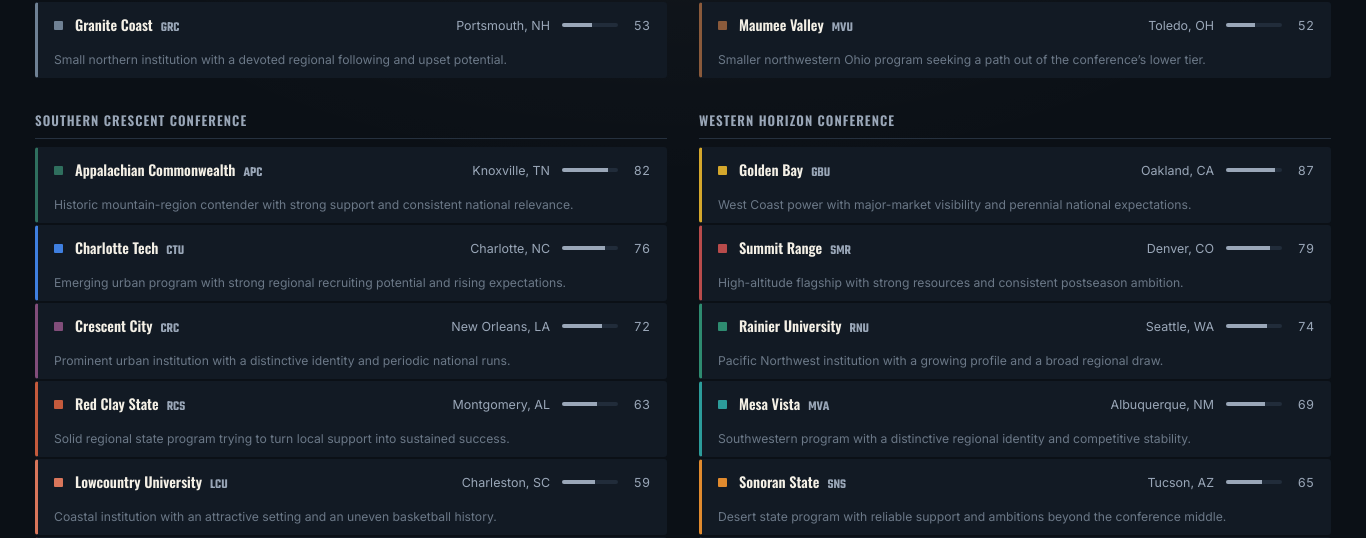
Season Presentation › shows the real next opponent from the Schedule on the hub
(page scrolled)
Click the button that starts with "Charlotte Tech": (117, 247) left=35, top=225, right=667, bottom=301
(page scrolled)
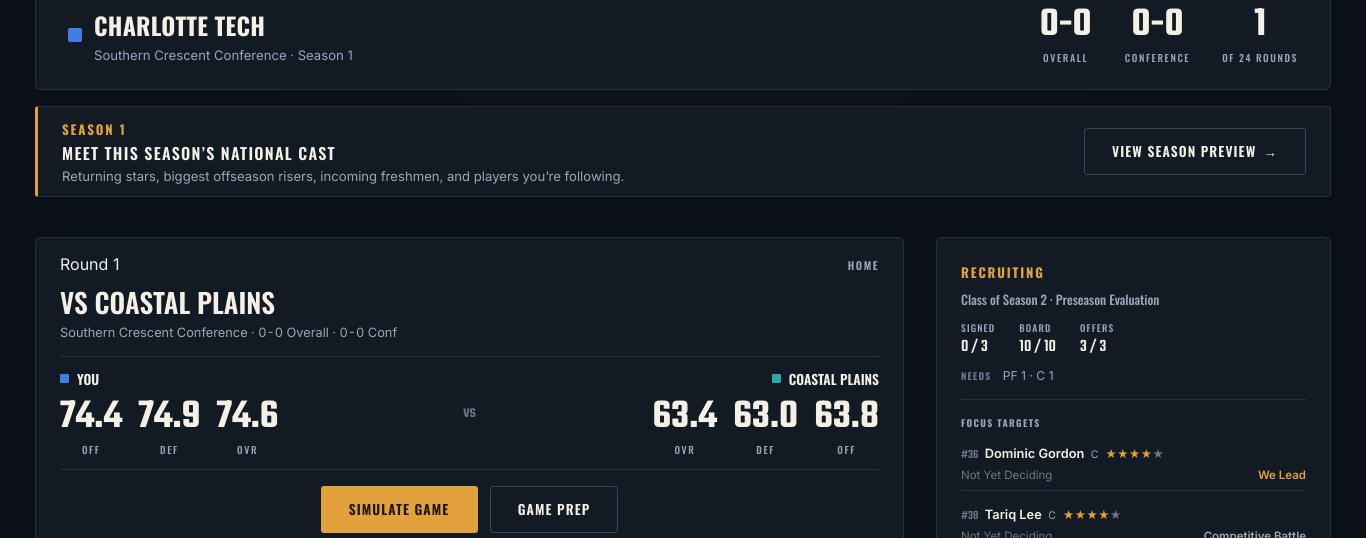
Expected: the heading "vs Coastal Plains" is shown, left=60, top=282, right=275, bottom=322
Expected: the text "Round 1" is shown, left=60, top=254, right=119, bottom=274
